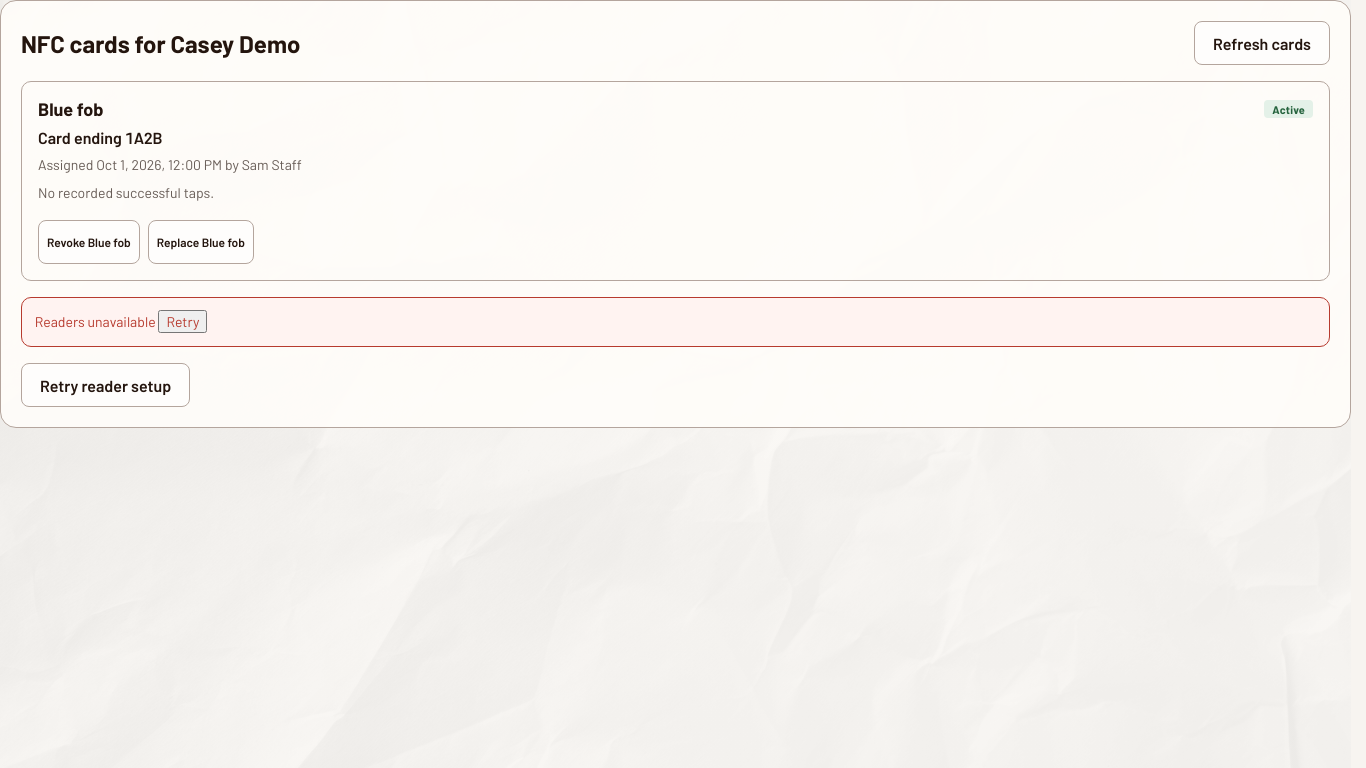
Test case: a revoke that lost a race says the card changed, loads the latest and stops offering the old revision
Click the button "Revoke Blue fob".
click(89, 242)  # box [38, 220, 140, 264]
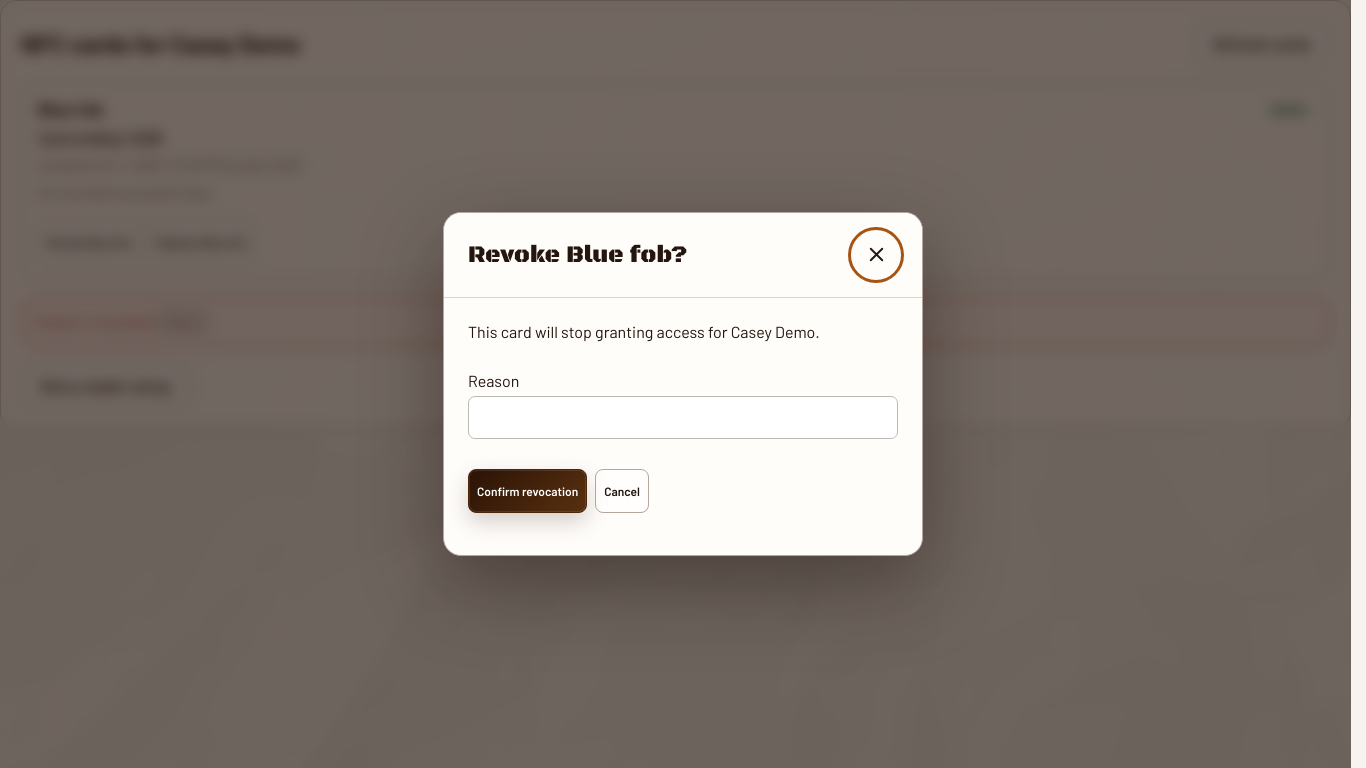
Type "Lost card" into the field labelled "Reason".
click(683, 418); type("Lost card")  # box [468, 396, 898, 439]
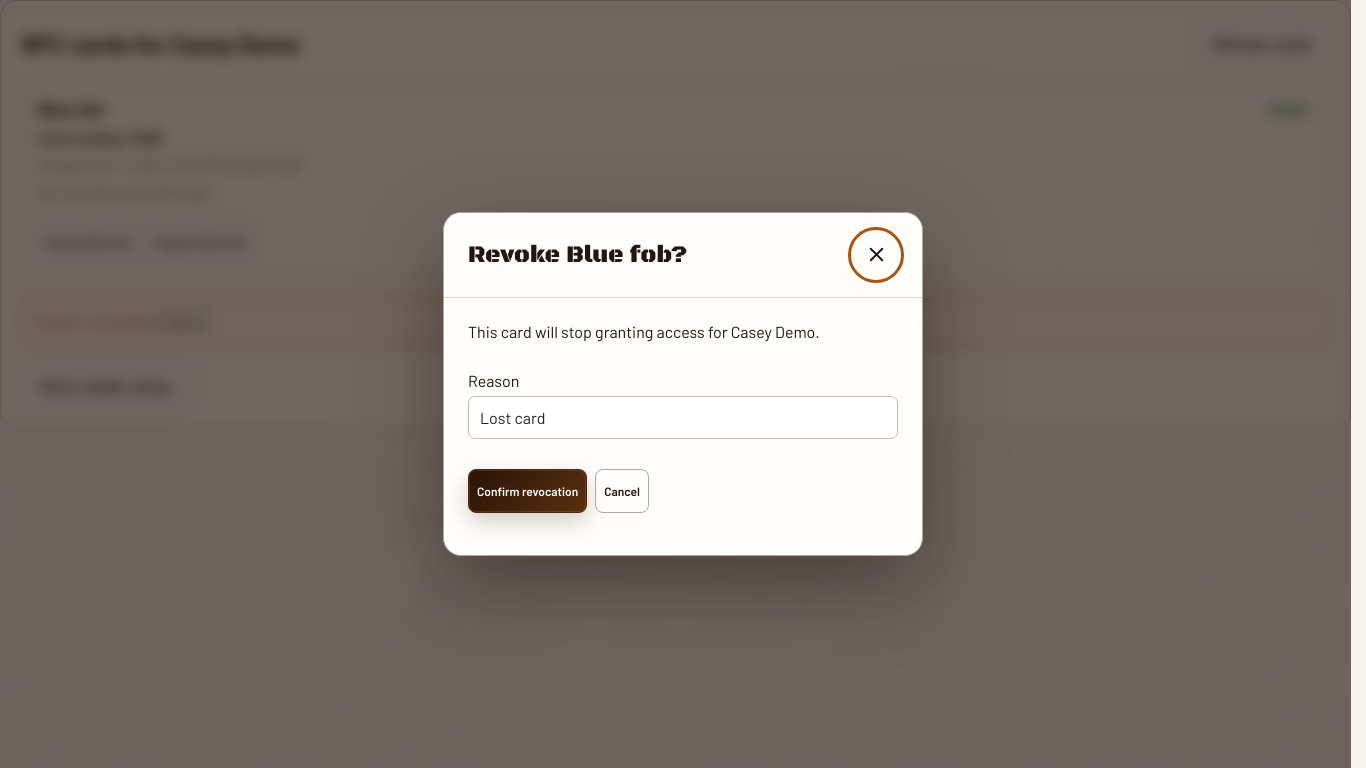
Click the button "Confirm revocation".
click(528, 491)  # box [468, 469, 587, 513]
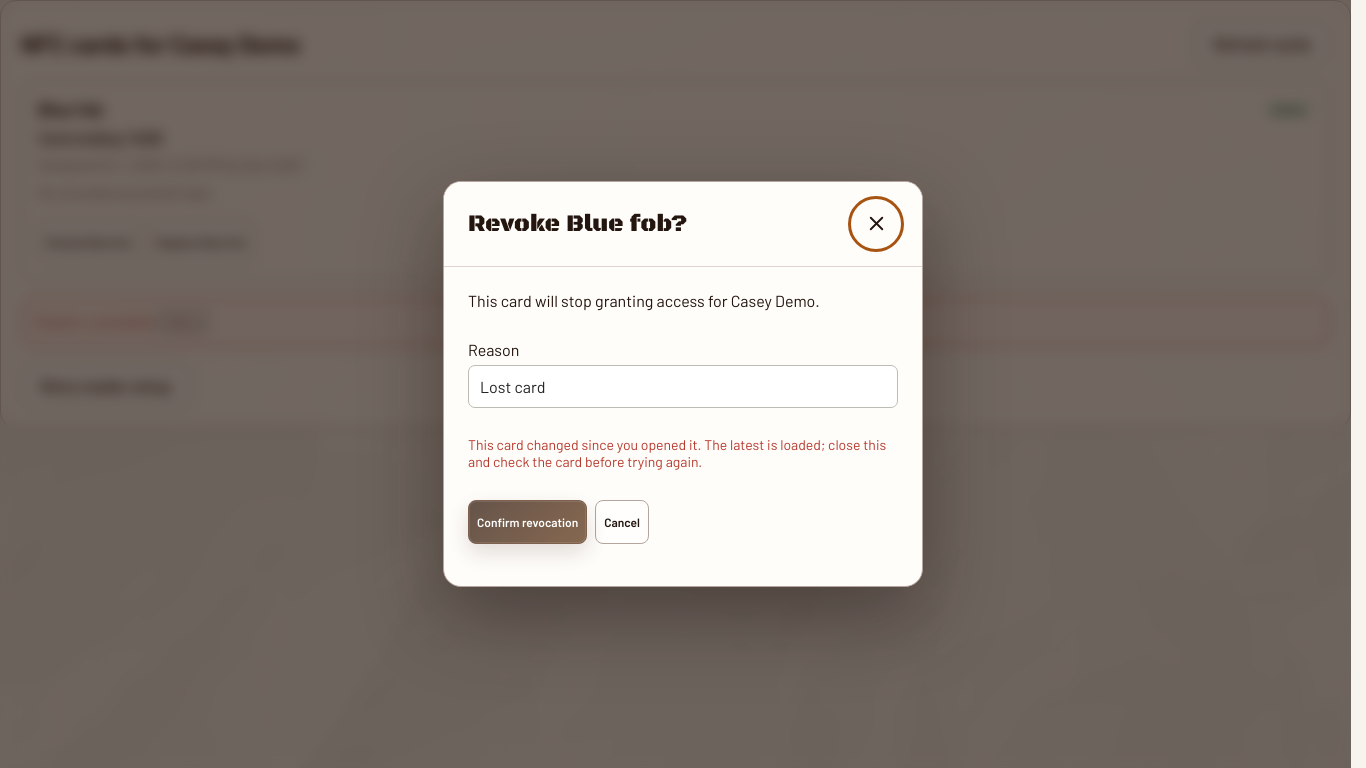
Expected: the message shows "This card changed since you opened it. The latest is loaded; close this and check the card before trying again.", [468, 436, 886, 470]
Expected: the button "Confirm revocation" is disabled, [468, 500, 587, 544]
Click the button "Cancel".
click(622, 522)  # box [595, 500, 649, 544]
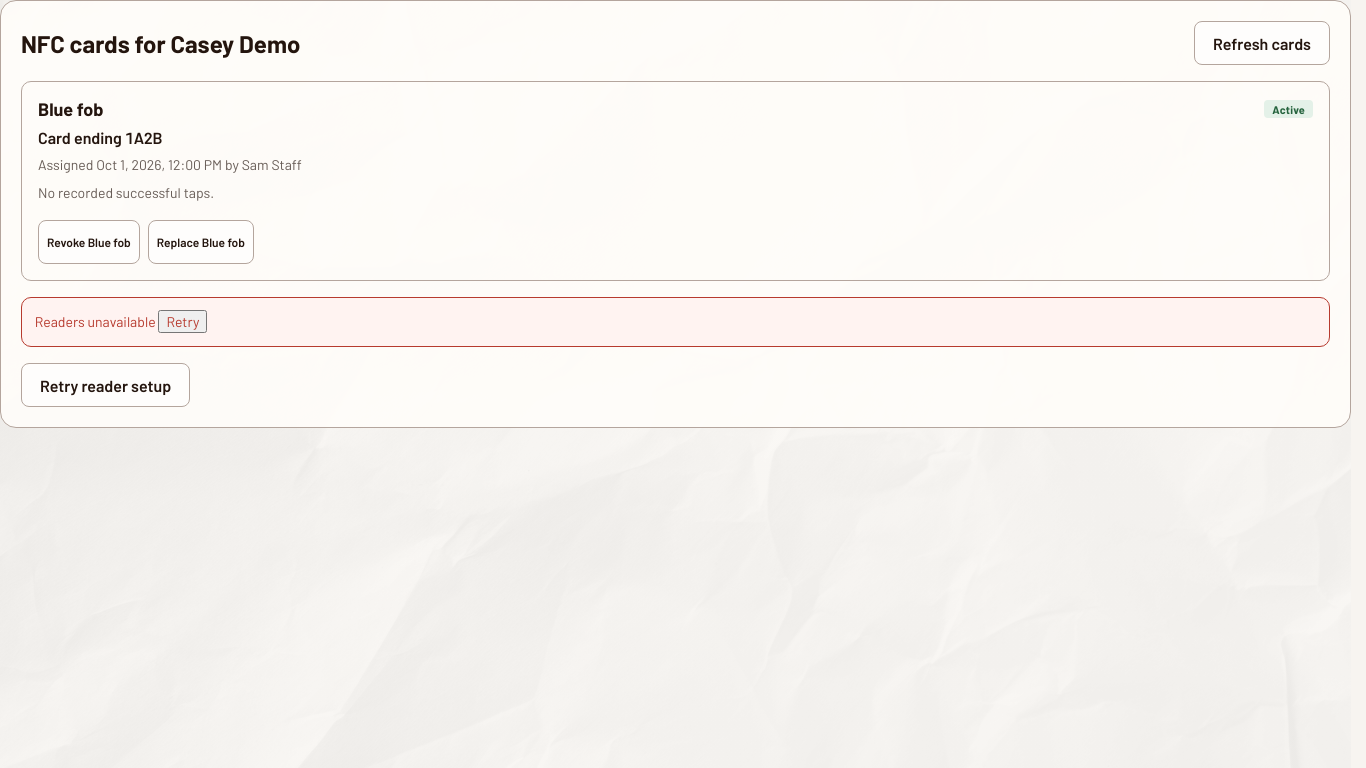
Expected: the dialog "Revoke Blue fob?" is not shown
Click the button "Revoke Blue fob".
click(89, 242)  # box [38, 220, 140, 264]
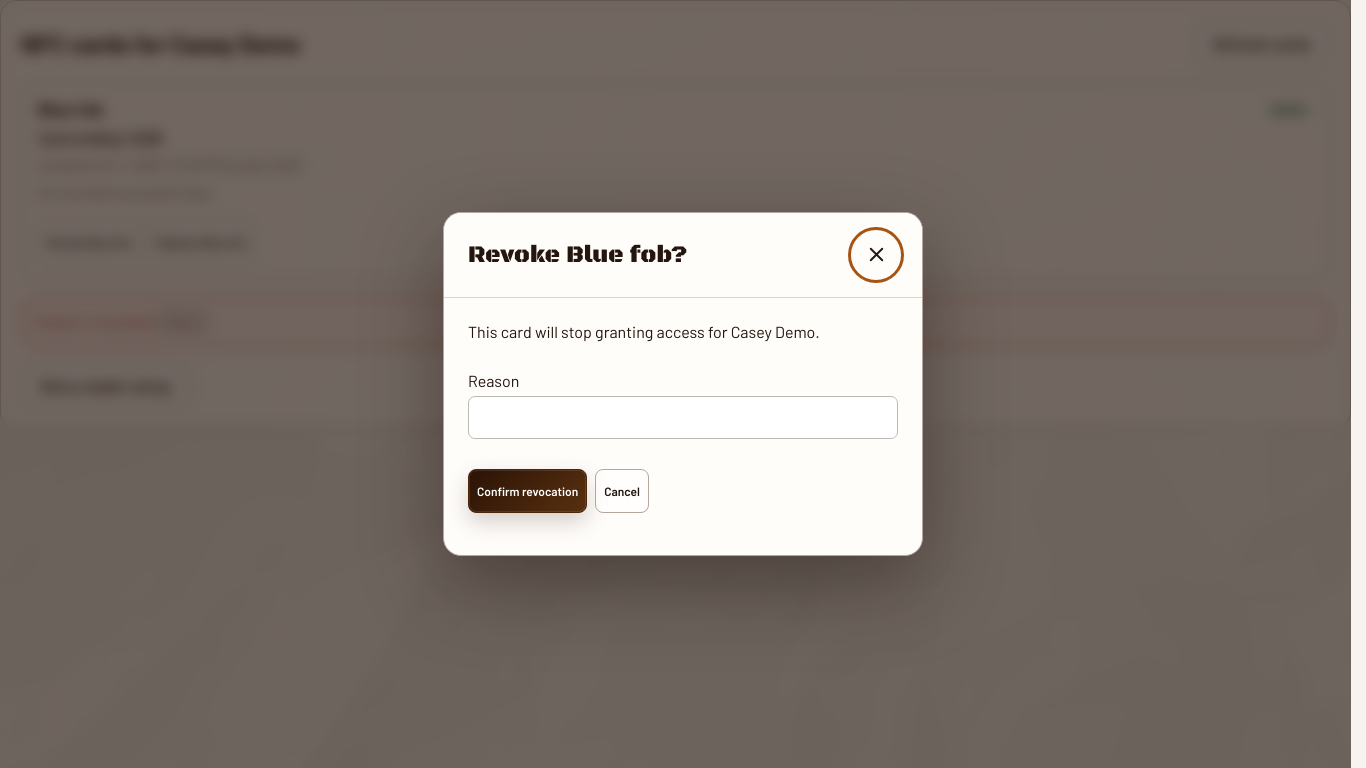
Expected: the button "Confirm revocation" is enabled, [468, 469, 587, 513]
